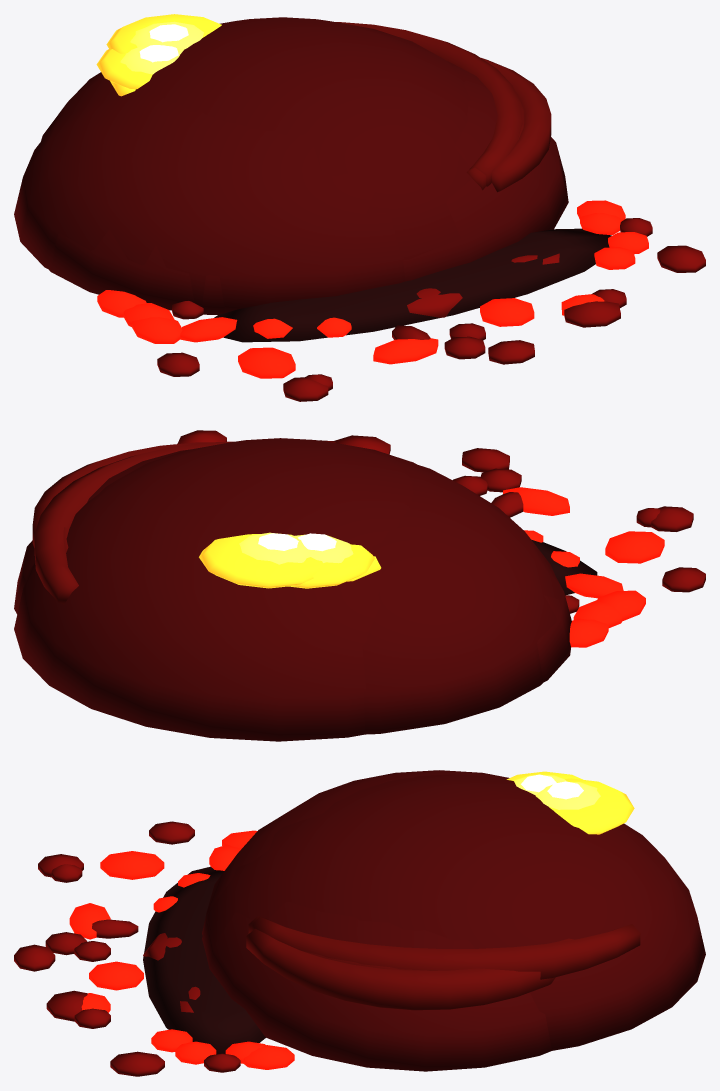
Rendered from newsh3-128.glb.
3 renders of one model, top to bottom at view 1: azimuth 30°, elevation 25°; view 2: azimuth 150°, elevation 25°; view 3: azimuth 270°, elevation 25°, orthographic. The views are drawn at different scales.
Parts seen in each view (by area): view 1: newsh3-128-130, newsh3-128-132, newsh3-128-128, newsh3-128; view 2: newsh3-128-132, newsh3-128-130, newsh3-128-128, newsh3-128; view 3: newsh3-128-132, newsh3-128-128, newsh3-128, newsh3-128-130.
Part boxes in pixels (x1,y1,x2,y2): newsh3-128-130: [14, 45, 635, 401]; newsh3-128-132: [41, 14, 652, 390]; newsh3-128-128: [48, 58, 705, 378]; newsh3-128: [214, 228, 611, 342]; newsh3-128-132: [14, 438, 705, 741]; newsh3-128-130: [63, 435, 693, 734]; newsh3-128-128: [14, 430, 664, 682]; newsh3-128: [531, 539, 597, 595]; newsh3-128-132: [51, 774, 705, 1072]; newsh3-128-128: [45, 830, 555, 1076]; newsh3-128: [143, 866, 265, 1054]; newsh3-128-130: [14, 770, 583, 1069].
Size of the model in its own units: 1.86 by 0.51 by 2.18.
